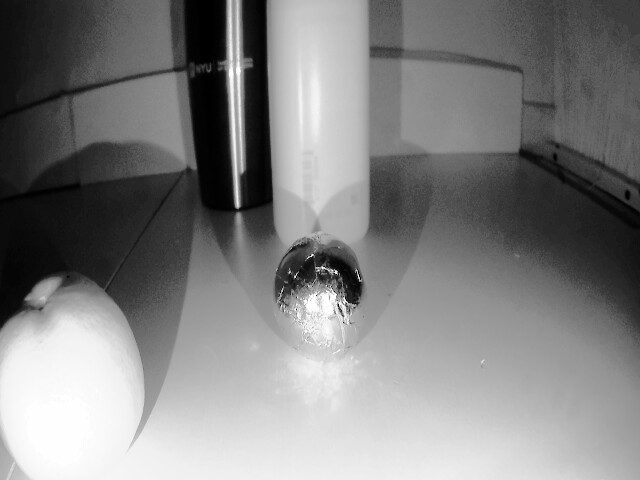black: (263, 233, 367, 354)
